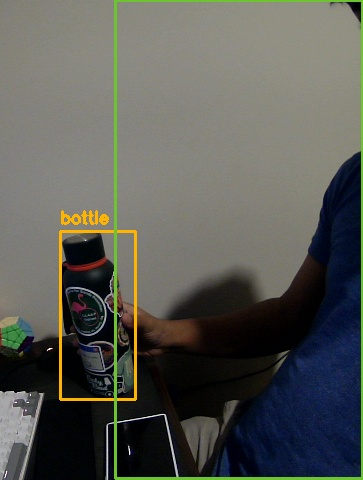bottle: (60, 231, 135, 399)
